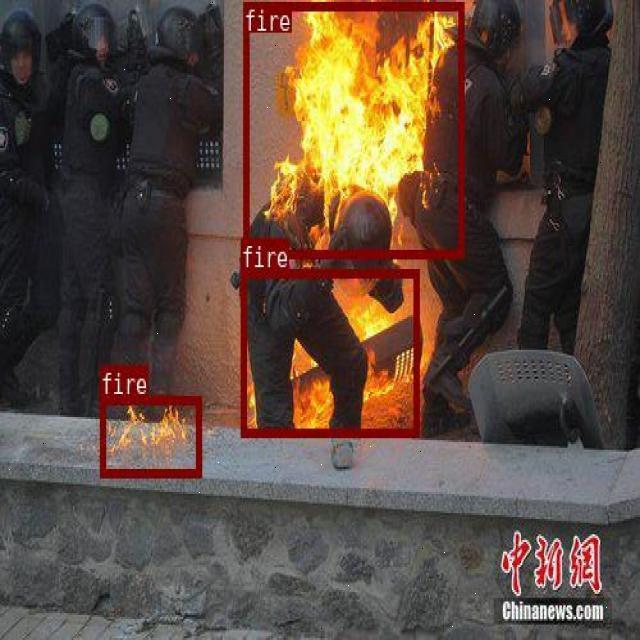fire: (242, 1, 463, 257), (240, 269, 418, 435), (100, 395, 200, 476)
